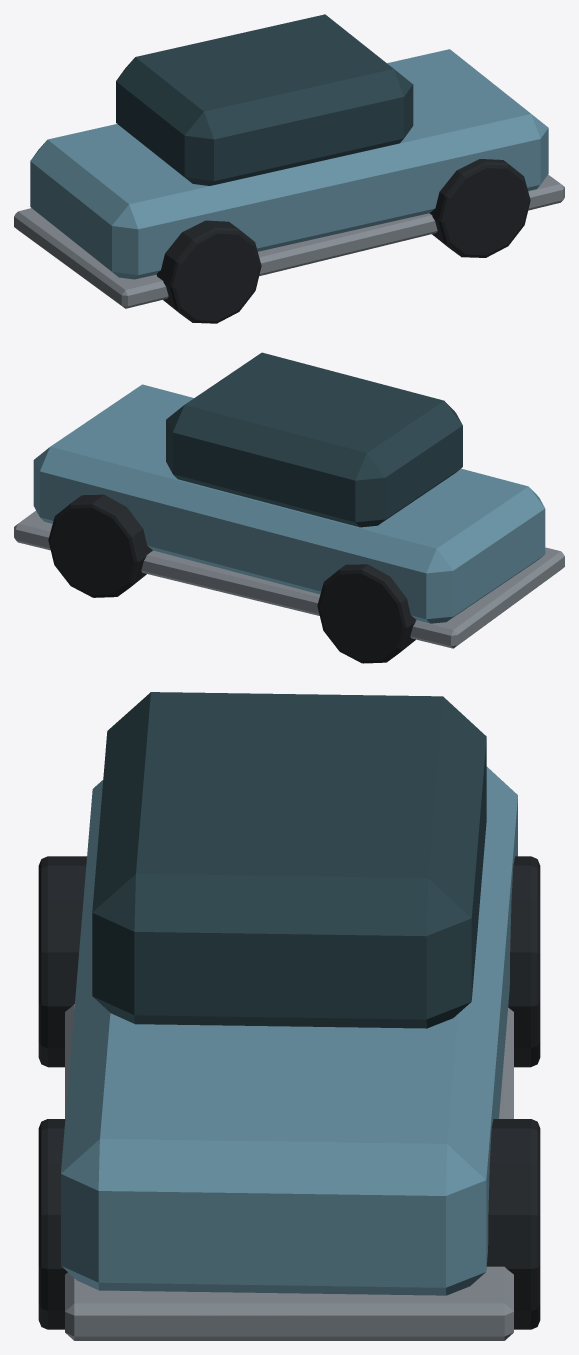
Rendered from la-abandonedcar.glb.
3 renders of one model, top to bottom at view 1: azimuth 30°, elevation 25°; view 2: azimuth 150°, elevation 25°; view 3: azimuth 270°, elevation 25°, orthographic. The views are drawn at different scales.
Parts seen in each view (by area): view 1: Car_Body, Car_Cabin, Car_Bumper, Car_Wheel, Car_Wheel.002; view 2: Car_Body, Car_Cabin, Car_Bumper, Car_Wheel.003, Car_Wheel.001; view 3: Car_Body, Car_Cabin, Car_Bumper, Car_Wheel.003, Car_Wheel, Car_Wheel.001, Car_Wheel.002.
Part boxes in pixels (box(x1,y1,x2,y2)): Car_Body: box(30, 49, 548, 279); Car_Cabin: box(116, 14, 413, 185); Car_Bumper: box(14, 174, 564, 308); Car_Wheel: box(157, 220, 261, 323); Car_Wheel.002: box(429, 159, 530, 257); Car_Body: box(33, 384, 545, 623); Car_Cabin: box(166, 352, 462, 527); Car_Bumper: box(14, 510, 564, 648); Car_Wheel.003: box(48, 494, 152, 597); Car_Wheel.001: box(317, 564, 416, 663); Car_Body: box(61, 766, 517, 1295); Car_Cabin: box(92, 692, 486, 1028); Car_Bumper: box(65, 1004, 513, 1340); Car_Wheel.003: box(486, 1119, 540, 1329); Car_Wheel: box(38, 856, 86, 1067); Car_Wheel.001: box(508, 856, 540, 1067); Car_Wheel.002: box(38, 1119, 67, 1329).
Size of the model in its own units: 4.45 by 1.82 by 2.18.
